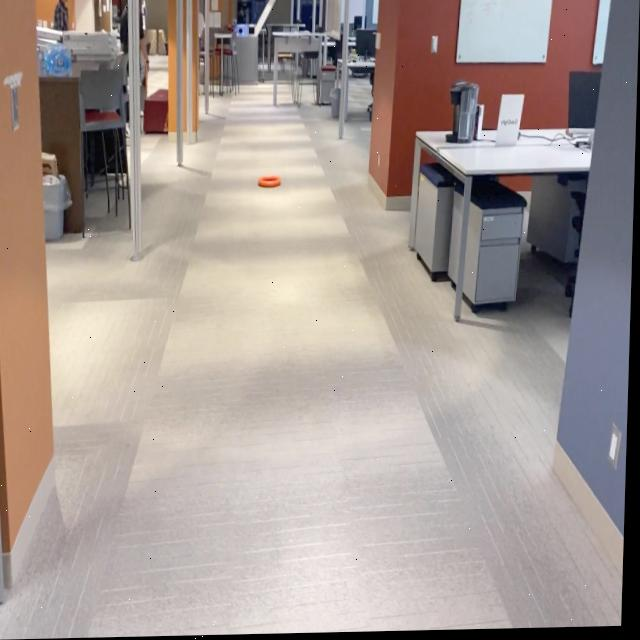note: (257, 173, 283, 190)
